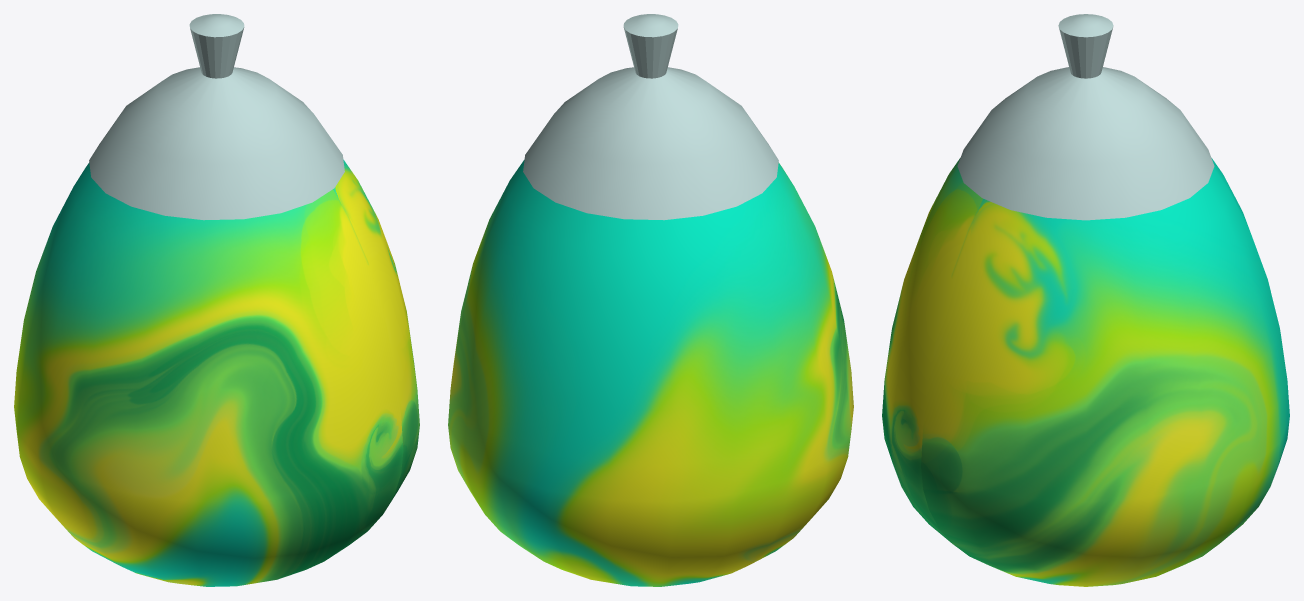
Rendered from Food_Bottle.fbx.
The picture shows the model from 3 angles, left to right: view 1: azimuth 30°, elevation 25°; view 2: azimuth 150°, elevation 25°; view 3: azimuth 270°, elevation 25°; orthographic projection.
Parts seen in each view (by area): view 1: pSphere4; view 2: pSphere4; view 3: pSphere4.
Part boxes in pixels (x1,y1,x2,y2): pSphere4: [14, 14, 419, 586]; pSphere4: [448, 14, 853, 586]; pSphere4: [882, 14, 1289, 586].
Bounding box in the file's own units: 10.73 × 15.83 × 10.73.
2 materials, 1 textured.
